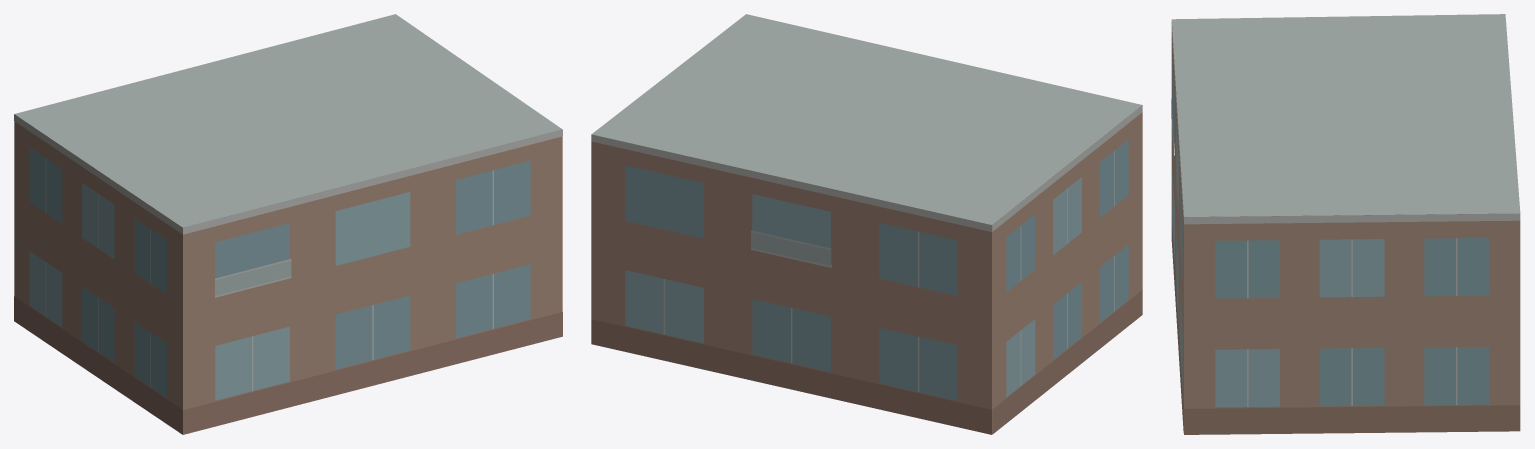
The model's file is survey-upis-32498562.glb.
The picture shows the model from 3 angles, left to right: view 1: azimuth 30°, elevation 25°; view 2: azimuth 150°, elevation 25°; view 3: azimuth 270°, elevation 25°; orthographic projection. The views are drawn at different scales.
Parts seen in each view (by area): view 1: survey-upis-32498562.tmp; view 2: survey-upis-32498562.tmp; view 3: survey-upis-32498562.tmp.
Part boxes in pixels (box(x1,y1,x2,y2)): survey-upis-32498562.tmp: box(14, 14, 562, 434); survey-upis-32498562.tmp: box(591, 14, 1142, 434); survey-upis-32498562.tmp: box(1171, 14, 1520, 434).
Size of the model in its own units: 14.6 by 7.3 by 10.61.
